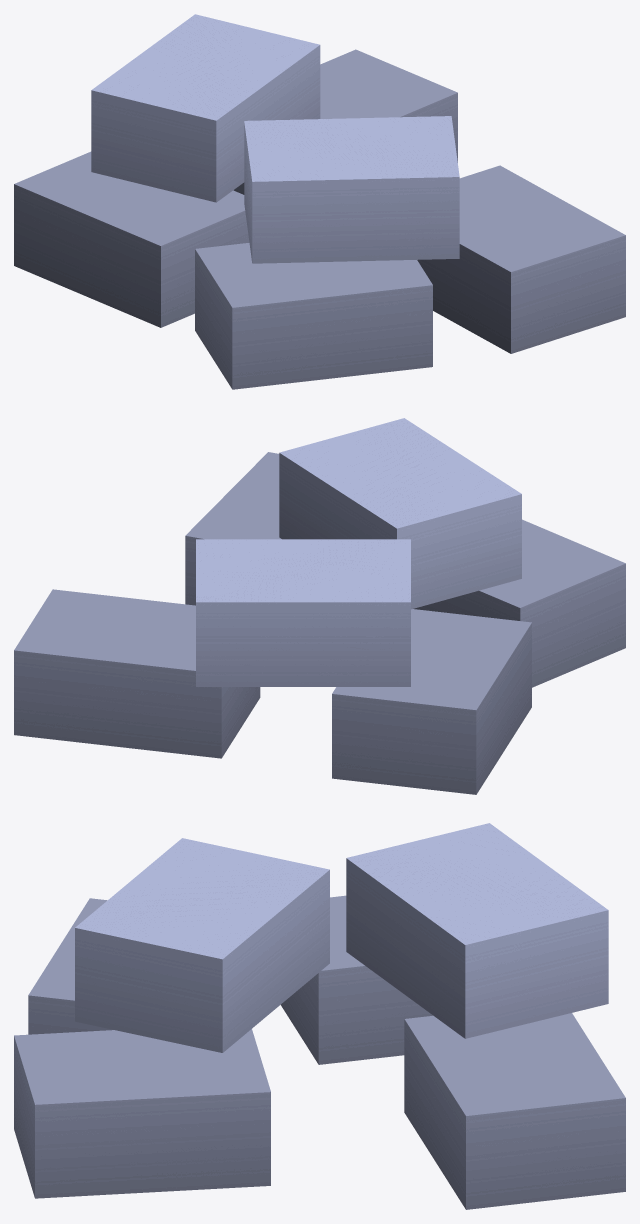
File: debris.glb
3 renders of one model, top to bottom at view 1: azimuth 30°, elevation 25°; view 2: azimuth 150°, elevation 25°; view 3: azimuth 270°, elevation 25°, orthographic. The views are drawn at different scales.
Parts seen in each view (by area): view 1: debris; view 2: debris; view 3: debris.
Part boxes in pixels (bbox=[...]): debris: bbox=[14, 14, 625, 389]; debris: bbox=[14, 418, 625, 794]; debris: bbox=[14, 823, 625, 1209].
Bounding box in the file's own units: 0.4365 × 0.16 × 0.4731.
Materials: 1 (1 with a texture image).
